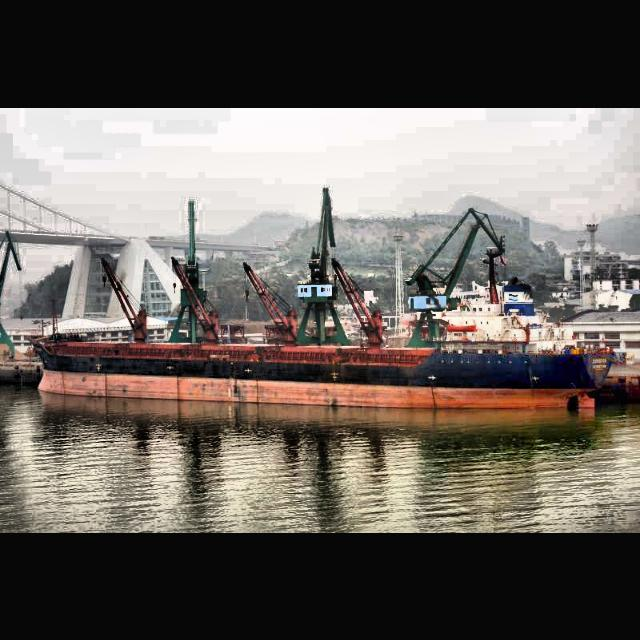bulk_carrier: (24, 183, 618, 413)
